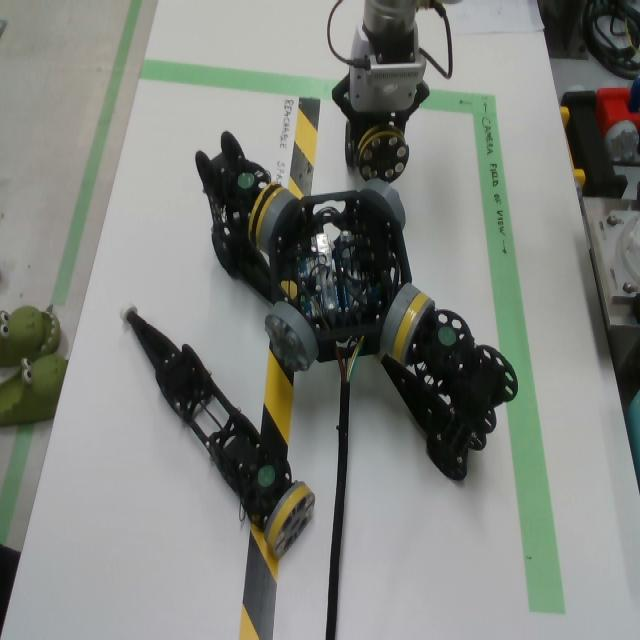body: (269, 191, 412, 363)
body_connector: (265, 303, 319, 372), (380, 283, 420, 356), (259, 191, 300, 255), (360, 179, 407, 231)
gripper: (331, 67, 430, 143)
leg: (119, 300, 315, 559), (379, 292, 518, 481), (195, 131, 288, 305), (345, 112, 409, 184)
leg_connector: (264, 481, 315, 560), (392, 293, 435, 367), (358, 124, 410, 184), (248, 183, 284, 249)
leg_marker: (438, 327, 457, 347), (257, 465, 274, 487), (238, 173, 255, 188)
